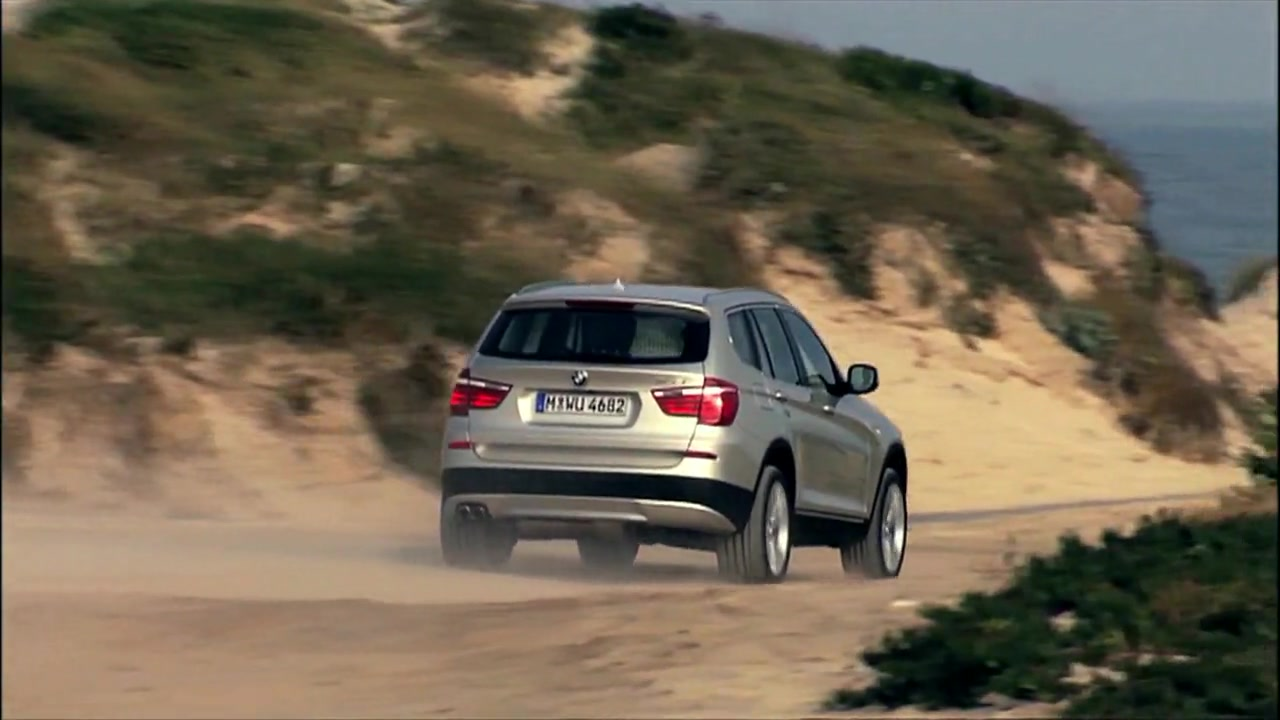car: (431, 278, 914, 587)
